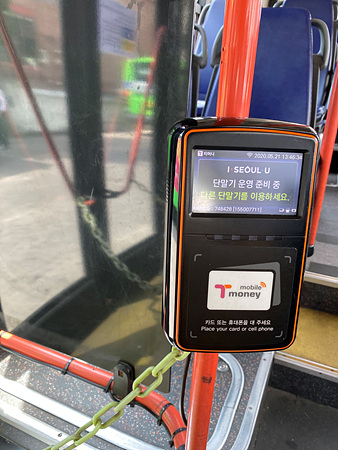terminal: (165, 114, 303, 350)
